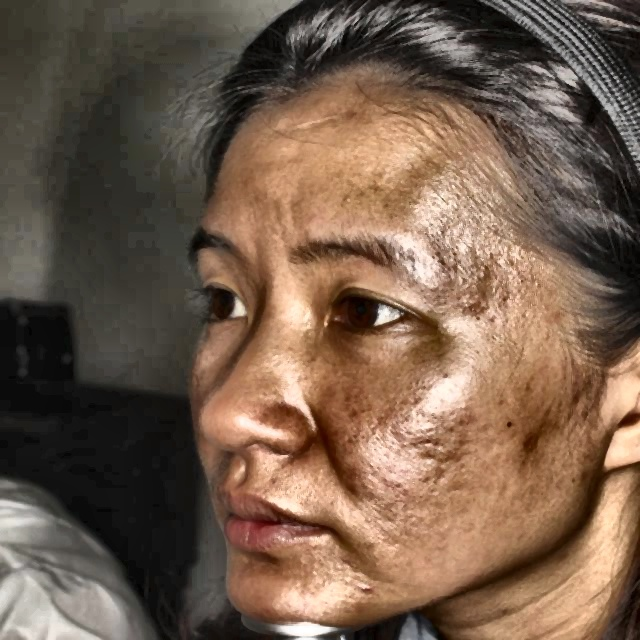comedone: (340, 578, 384, 602)
